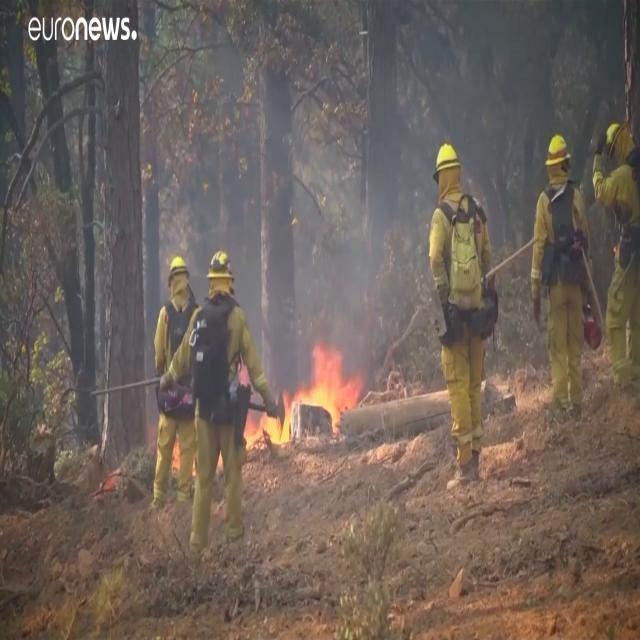Fire: (282, 343, 368, 447), (244, 407, 282, 450), (170, 439, 180, 472), (104, 474, 113, 492)
Smoke: (236, 188, 402, 342)
